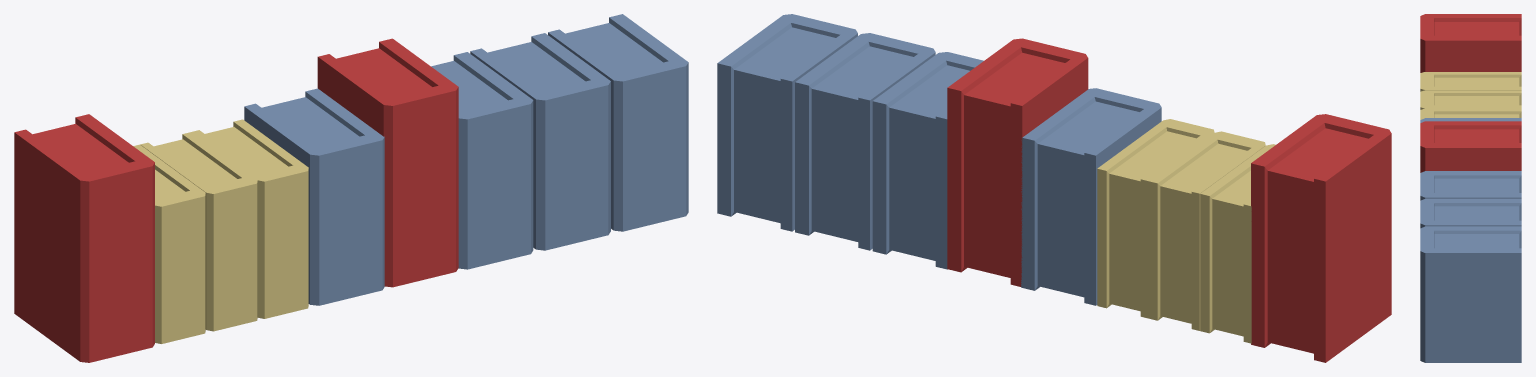
Rendered from bookstack5.fbx.
3 renders of one model, left to right at view 1: azimuth 30°, elevation 25°; view 2: azimuth 150°, elevation 25°; view 3: azimuth 270°, elevation 25°, orthographic. The views are drawn at different scales.
Parts seen in each view (by area): view 1: bookstack5; view 2: bookstack5; view 3: bookstack5.
Boxes of the visible parts, <box> form: bookstack5: <box>14,14,688,362</box>; bookstack5: <box>717,14,1391,362</box>; bookstack5: <box>1420,14,1521,362</box>.
Size of the model in its own units: 82.14 by 23.6 by 16.19.
